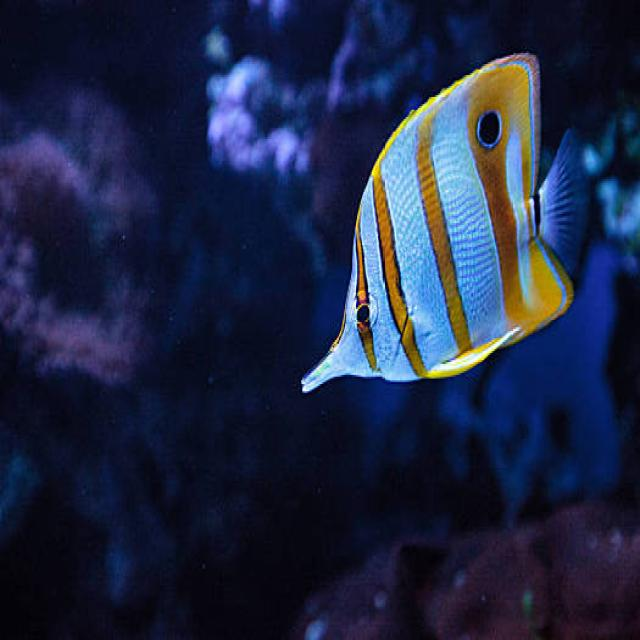ButterflyFish: (300, 53, 585, 398)
